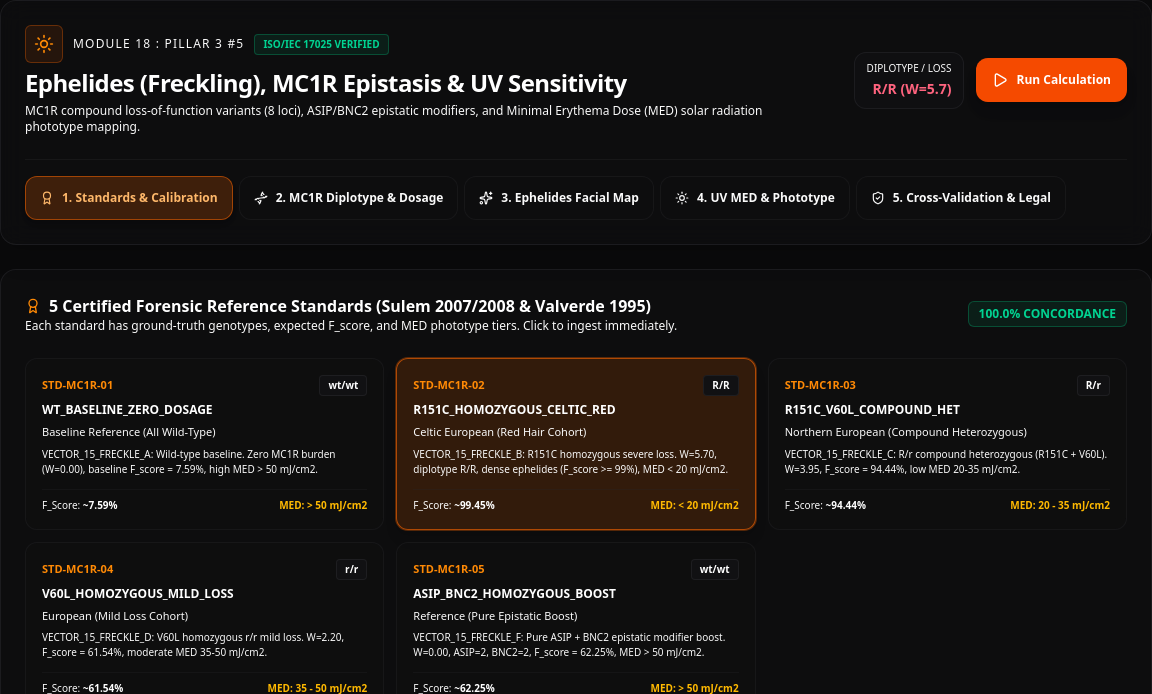
Scenario: Subsystem 18 (Pillar 3.5) PanelFreckling Component & Case Store Integration › allows switching seamlessly across all 5 analytical tabs
This screenshot has width=1152, height=694.
Expected: the button "1. Standards & Calibration" is shown, [25, 176, 233, 220]
# Switch to Tab 2
What coordinates should you click on to do the following:
click the button "2. MC1R Diplotype & Dosage"
I would click on:
 (349, 198)
Its box is [239, 176, 458, 220].
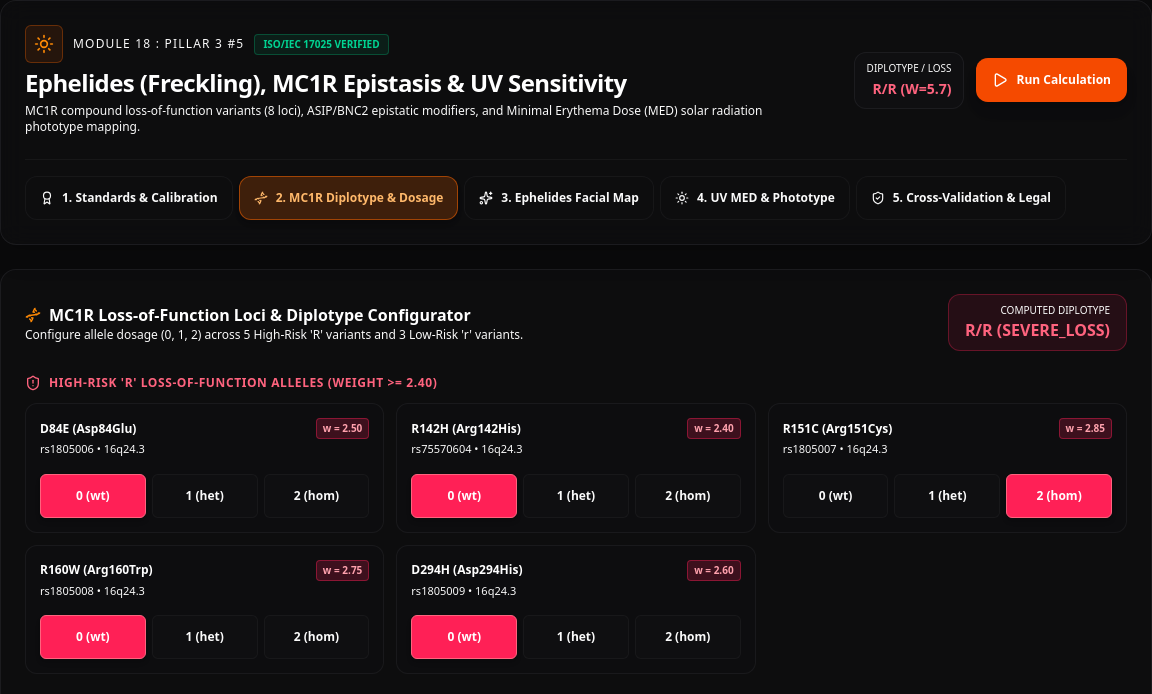
Expected: the text "High-Risk 'R' Loss-of-Function Alleles (Weight >= 2.40)" is shown, [25, 374, 437, 391]
# Switch to Tab 3
What coordinates should you click on to do the following:
click the button "3. Ephelides Facial Map"
I would click on:
 (559, 198)
Its box is [464, 176, 654, 220].
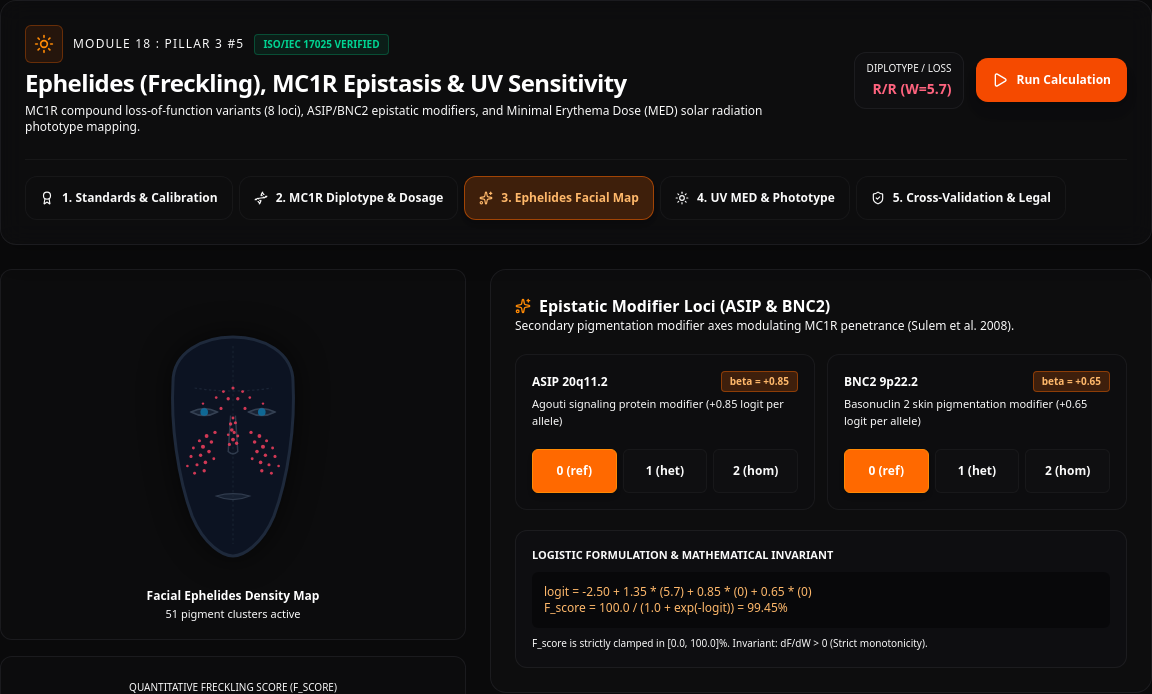
Expected: the text "Logistic Formulation & Mathematical Invariant" is shown, [532, 547, 833, 562]
# Switch to Tab 4
What coordinates should you click on to do the following:
click the button "4. UV MED & Phototype"
I would click on:
 (755, 198)
Its box is [660, 176, 850, 220].
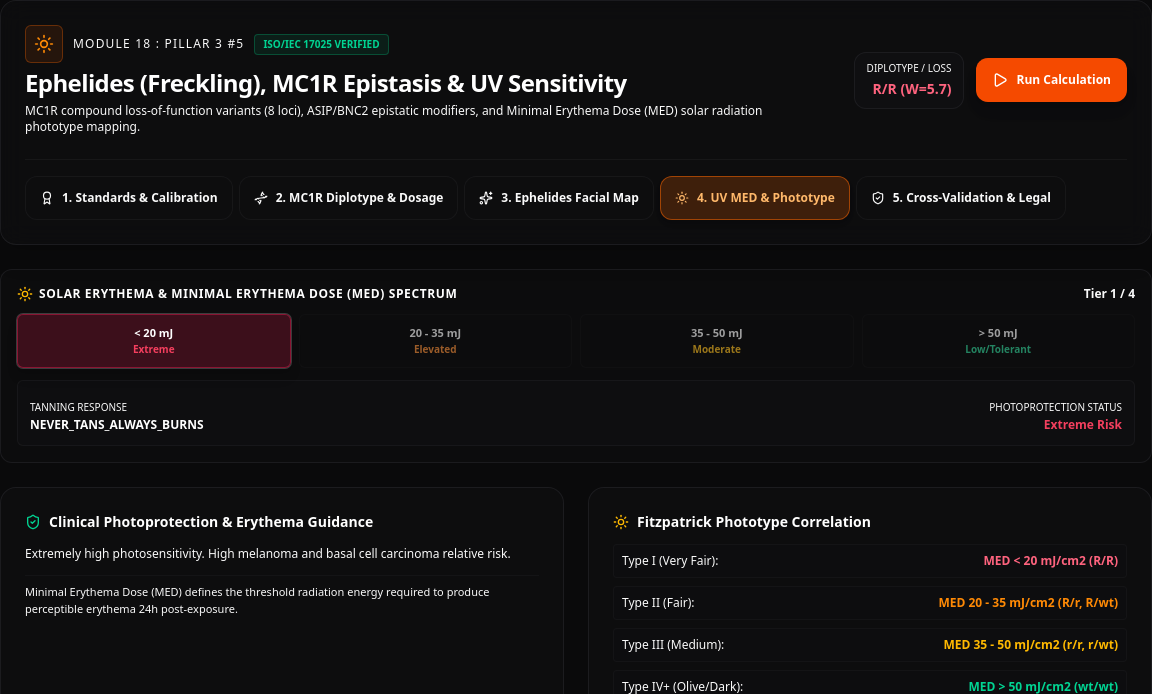
Expected: the heading "Clinical Photoprotection & Erythema Guidance" is shown, [25, 512, 373, 530]
# Switch to Tab 5
What coordinates should you click on to do the following:
click the button "5. Cross-Validation & Legal"
I would click on:
 (961, 198)
Its box is [856, 176, 1066, 220].
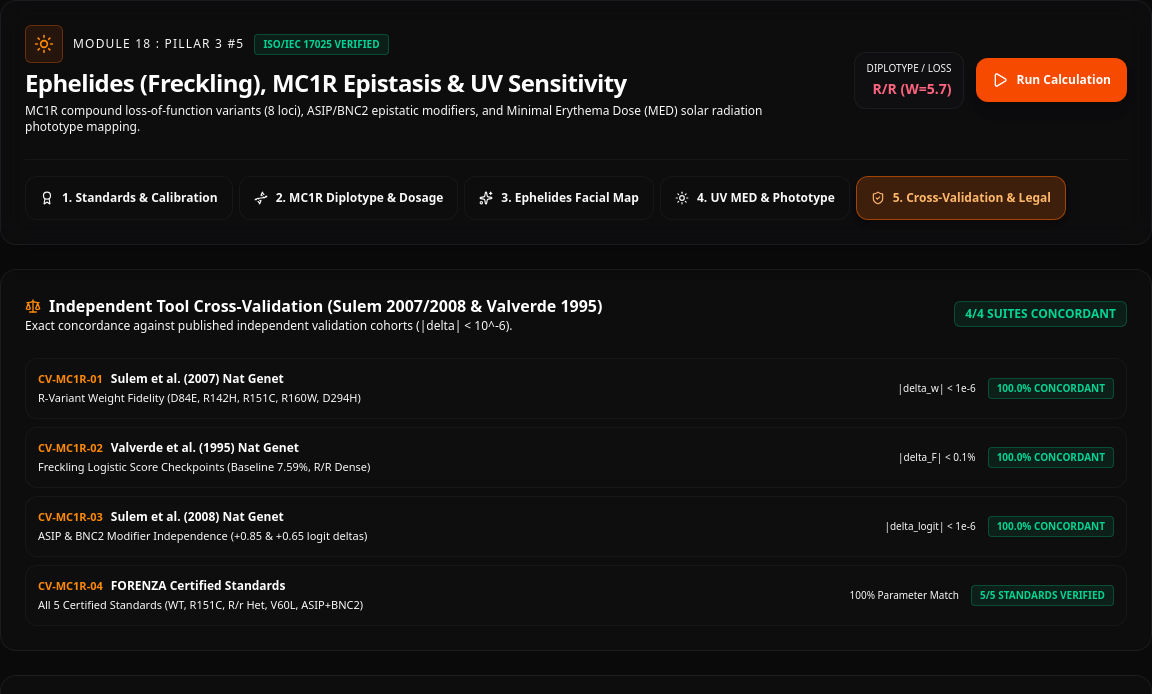
Expected: the heading "Independent Tool Cross-Validation" is shown, [49, 295, 602, 317]
